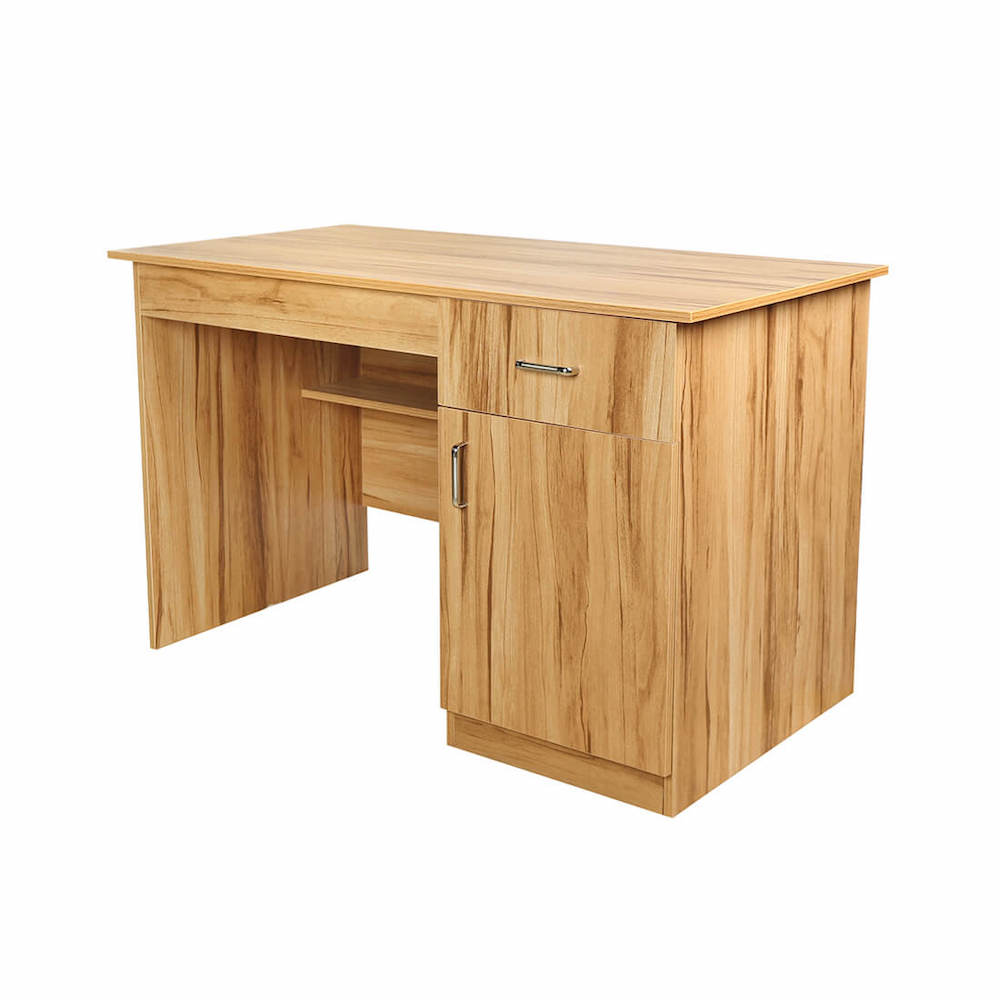table: (107, 220, 892, 818)
